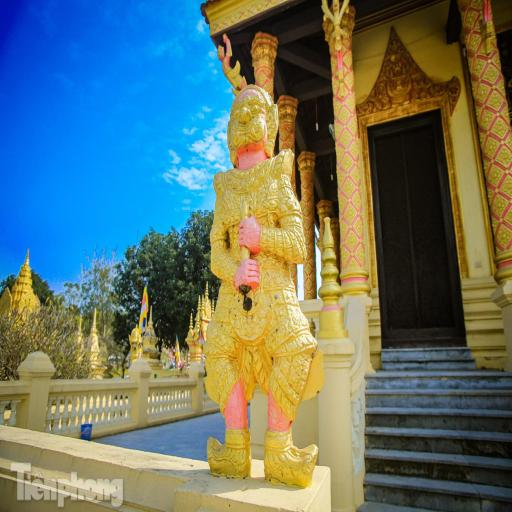hoa: (487, 90, 505, 112), (496, 224, 512, 248), (491, 117, 509, 138), (487, 163, 503, 186), (497, 144, 512, 166), (484, 64, 499, 86), (493, 194, 506, 219), (472, 56, 485, 80), (476, 83, 489, 104), (342, 176, 356, 195), (501, 175, 512, 198), (485, 137, 497, 158), (480, 39, 494, 57), (346, 228, 357, 250), (341, 152, 353, 171), (345, 203, 356, 223), (355, 243, 366, 263), (482, 110, 492, 132), (465, 11, 477, 29), (497, 78, 508, 97), (354, 216, 364, 236), (340, 105, 350, 123), (340, 128, 350, 146), (346, 95, 357, 111), (351, 166, 362, 182), (491, 214, 499, 236), (486, 184, 494, 206), (469, 35, 480, 51), (345, 70, 354, 89), (492, 53, 502, 70), (340, 245, 348, 266), (471, 76, 477, 104), (353, 191, 362, 209), (348, 118, 358, 134), (340, 218, 348, 238), (347, 256, 360, 268), (472, 0, 484, 13), (256, 71, 266, 86), (344, 51, 352, 69), (337, 171, 346, 187), (475, 104, 483, 122), (466, 55, 474, 73), (506, 202, 512, 225), (478, 130, 486, 147), (332, 98, 340, 114), (502, 106, 510, 122), (264, 79, 272, 94), (330, 56, 338, 71), (334, 122, 342, 137), (350, 143, 358, 158), (340, 195, 347, 211), (332, 77, 338, 94), (506, 132, 512, 148), (302, 175, 309, 188), (337, 147, 343, 162), (464, 31, 470, 46), (344, 36, 350, 50), (304, 203, 310, 215), (304, 218, 310, 230), (303, 270, 309, 282), (306, 278, 312, 290), (306, 263, 312, 274), (310, 270, 316, 281), (304, 190, 309, 202), (306, 234, 312, 244), (311, 285, 316, 297), (309, 241, 315, 250), (300, 185, 305, 195), (308, 183, 313, 193), (309, 196, 314, 206), (309, 226, 314, 236), (306, 248, 311, 258), (310, 256, 315, 266), (303, 286, 308, 296), (302, 211, 306, 222), (300, 199, 304, 209), (307, 292, 312, 300), (309, 212, 313, 221), (303, 227, 307, 234), (304, 260, 307, 266)
than: (209, 82, 317, 491)
